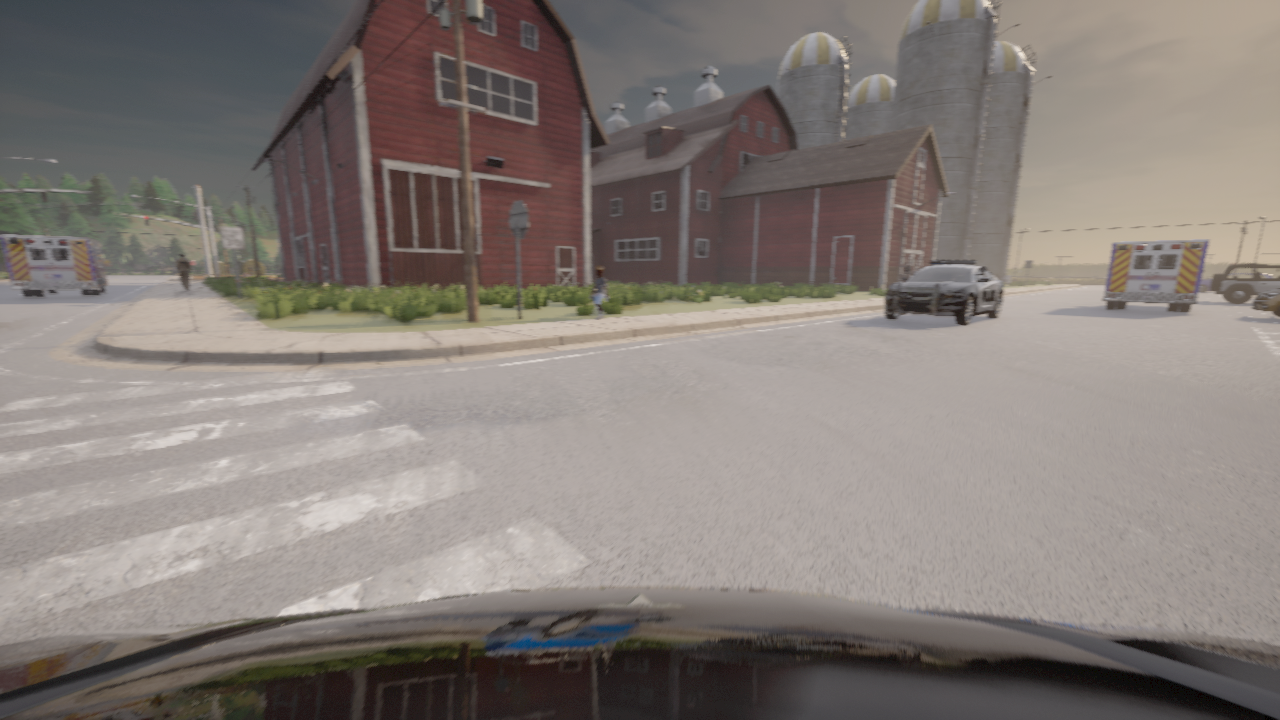cyclist: (0, 588, 1279, 719), (885, 259, 1003, 325), (1102, 239, 1209, 311), (1, 235, 111, 297), (1210, 263, 1279, 303), (1251, 288, 1279, 316), (1199, 278, 1211, 292), (244, 273, 249, 275)
pedestrian: (591, 268, 607, 318), (176, 254, 191, 290)
